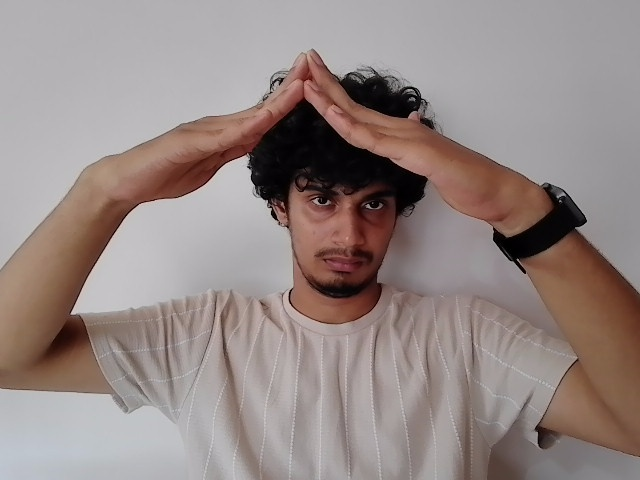home: (121, 51, 513, 214)
